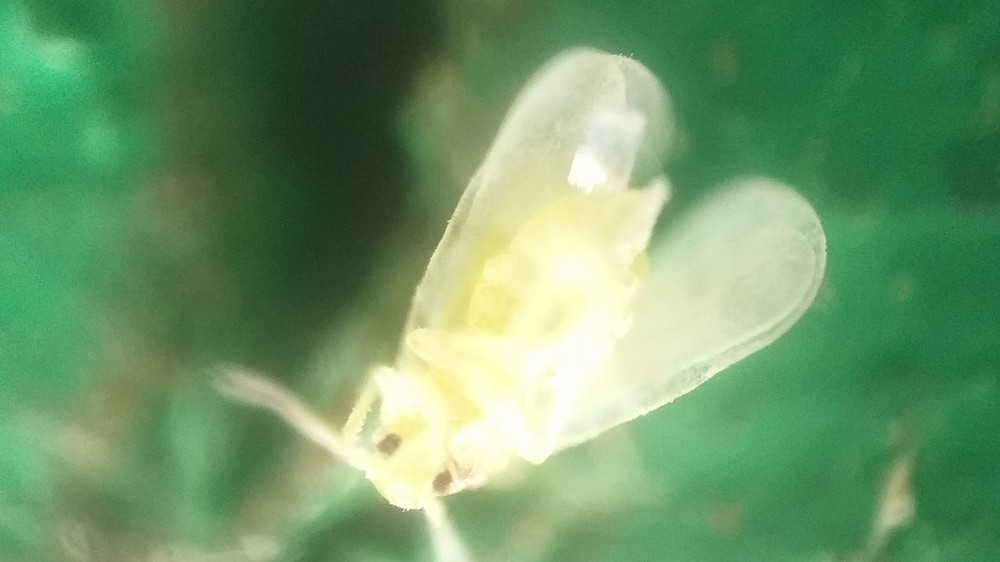Mosca Blanca: (190, 31, 855, 562)
